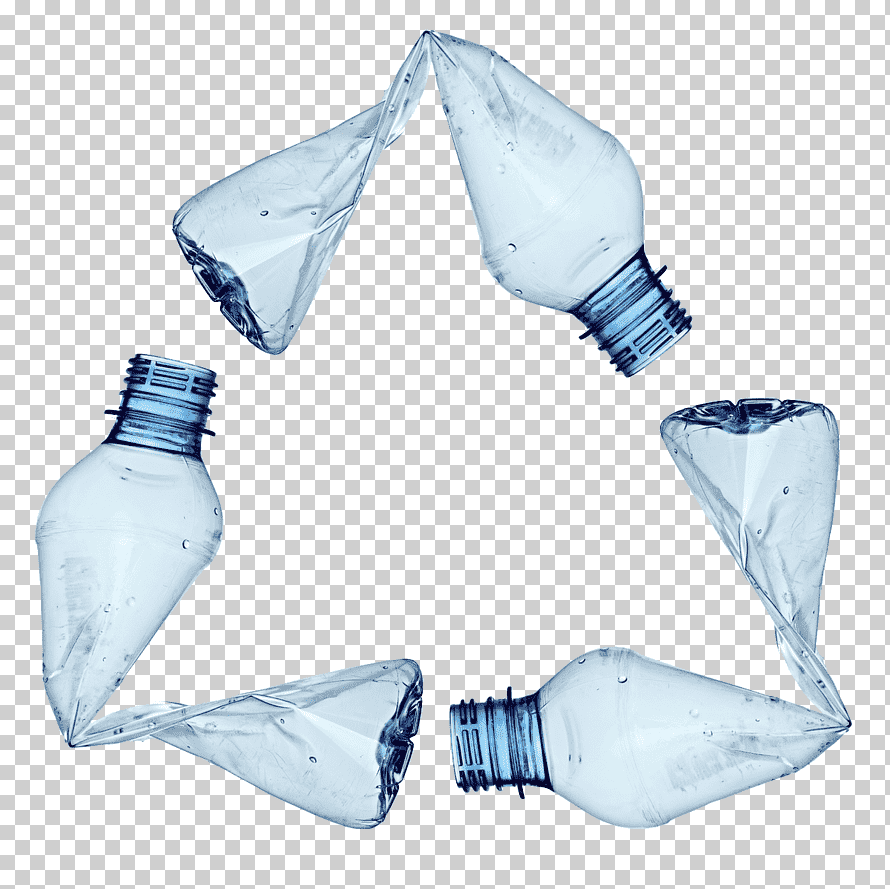plastic_bottle: (349, 339, 890, 879), (138, 17, 865, 408), (16, 294, 436, 876)
